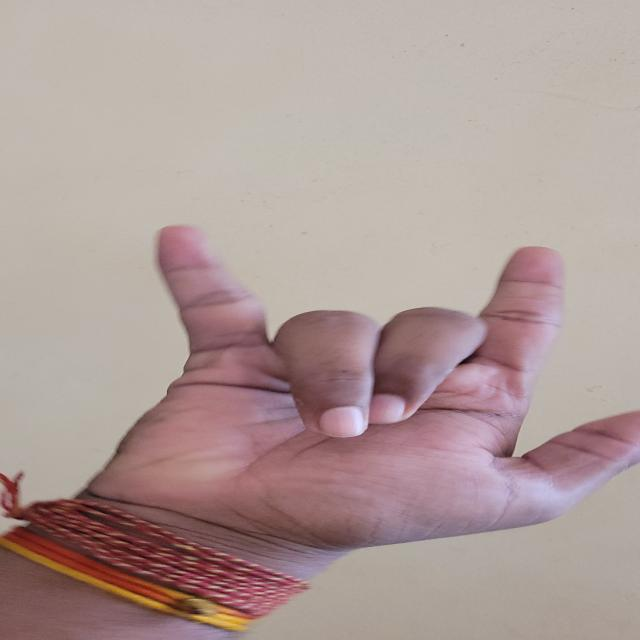i like you: (65, 177, 640, 640)
